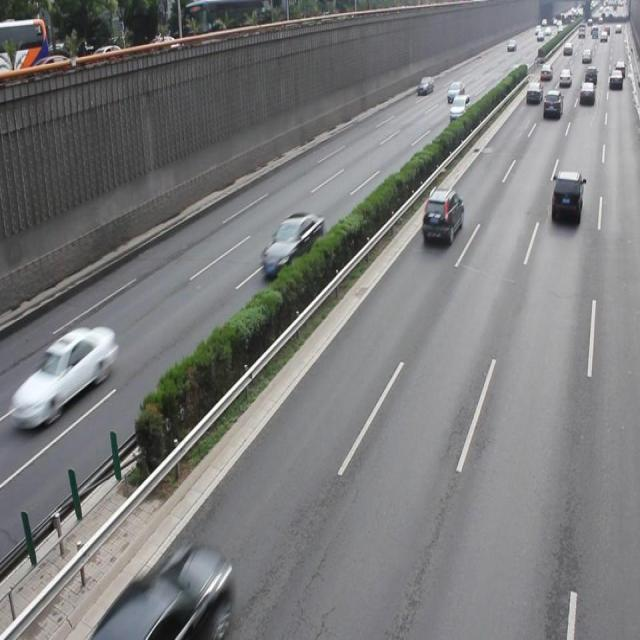car: (24, 326, 115, 428), (260, 211, 324, 276), (420, 185, 464, 245), (550, 168, 582, 225)
